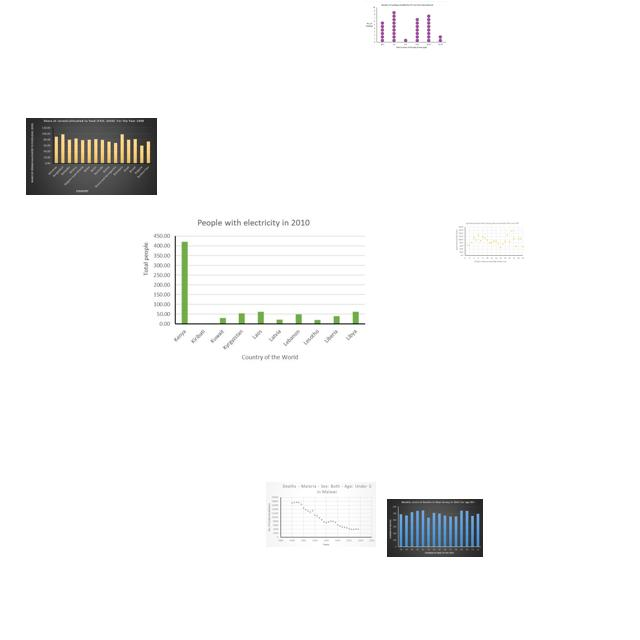Graph: (137, 213, 371, 368), (26, 118, 157, 195), (266, 482, 376, 547), (387, 499, 483, 557), (363, 1, 448, 51), (455, 221, 525, 264)
